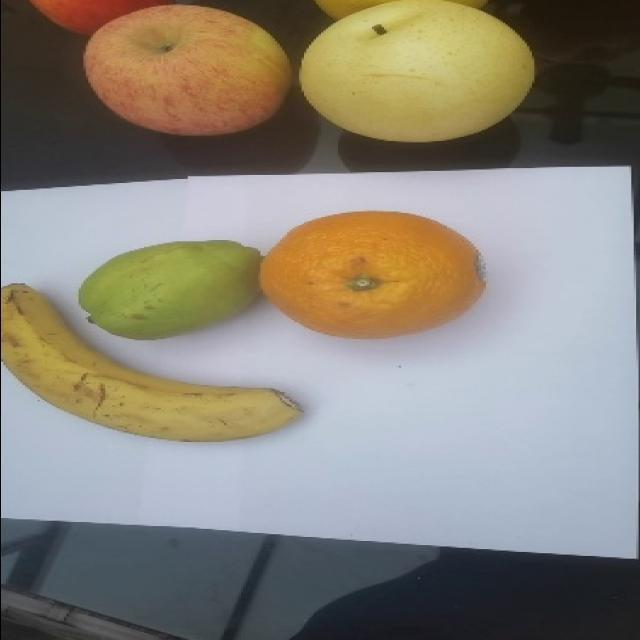Apple: (82, 6, 294, 141), (26, 0, 184, 44)
Banana: (0, 283, 304, 447)
Orange: (264, 212, 488, 342)
